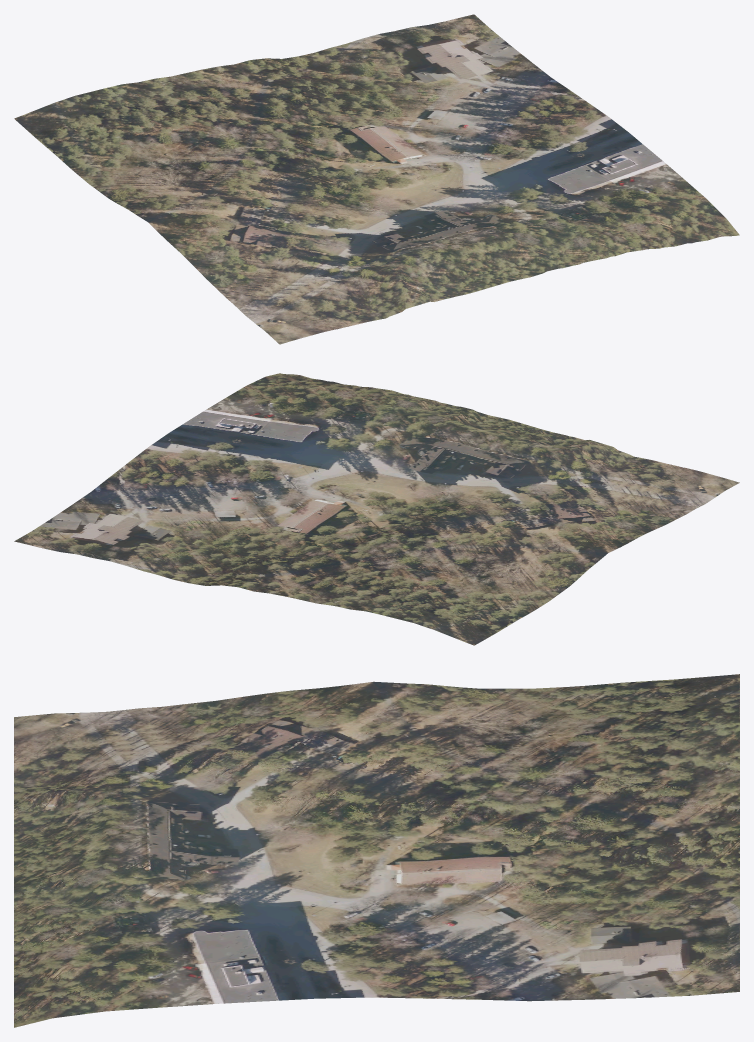
File: CM_Terrain_24488410_6822046.fbx
The picture shows the model from 3 angles, top to bottom: view 1: azimuth 30°, elevation 25°; view 2: azimuth 150°, elevation 25°; view 3: azimuth 270°, elevation 25°; orthographic projection. The views are drawn at different scales.
Parts seen in each view (by area): view 1: CM_Terrain_24488410_6822046_LOD0; view 2: CM_Terrain_24488410_6822046_LOD0; view 3: CM_Terrain_24488410_6822046_LOD0.
Part boxes in pixels (x1,y1,x2,y2): CM_Terrain_24488410_6822046_LOD0: (14, 14, 739, 344); CM_Terrain_24488410_6822046_LOD0: (14, 373, 739, 645); CM_Terrain_24488410_6822046_LOD0: (14, 674, 739, 1027).
Size of what is drawn, in the model's own units: 205 by 18.05 by 205.
